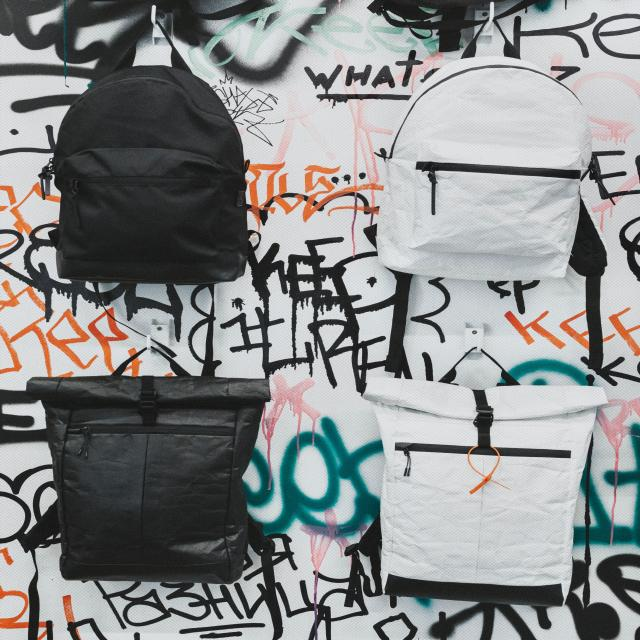backpack: (348, 346, 606, 610), (35, 355, 272, 585), (59, 13, 254, 286), (382, 19, 576, 288)
